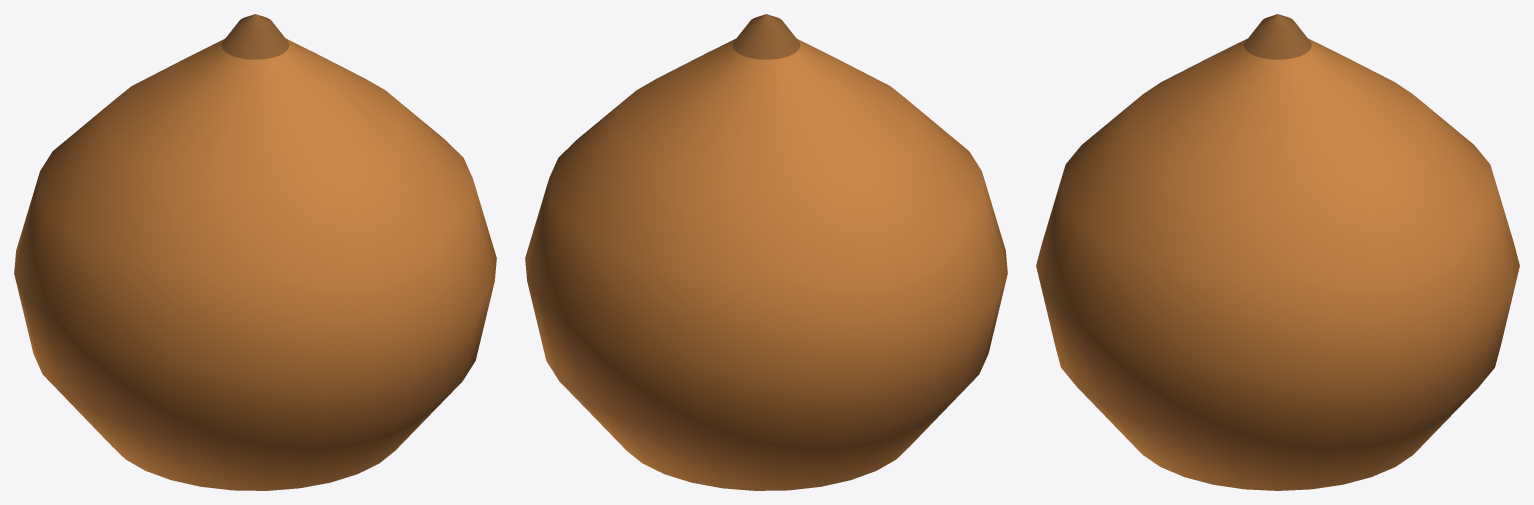
The model's file is onion.glb.
3 renders of one model, left to right at view 1: azimuth 30°, elevation 25°; view 2: azimuth 150°, elevation 25°; view 3: azimuth 270°, elevation 25°, orthographic.
Parts seen in each view (by area): view 1: package_mesh; view 2: package_mesh; view 3: package_mesh.
Part boxes in pixels (left/top/right/bottom): package_mesh: left=14, top=14, right=496, bottom=490; package_mesh: left=525, top=14, right=1007, bottom=490; package_mesh: left=1036, top=14, right=1519, bottom=490.
Bounding box in the file's own units: 0.3072 × 0.3169 × 0.3072.
